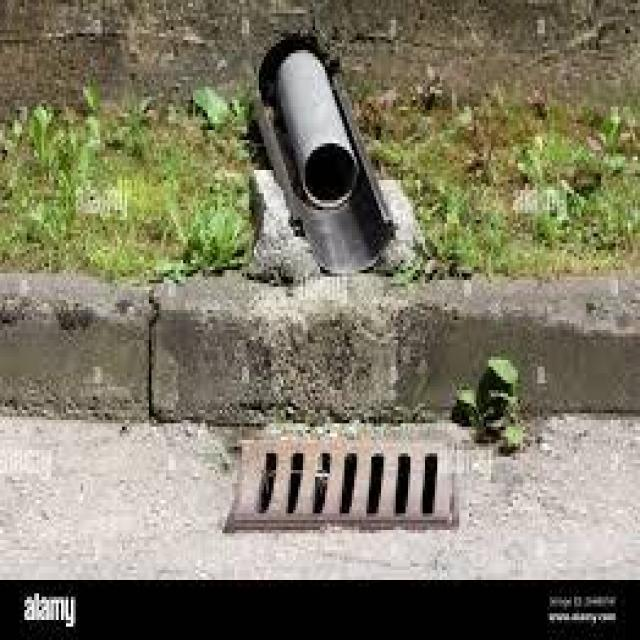curb: (1, 285, 632, 434)
